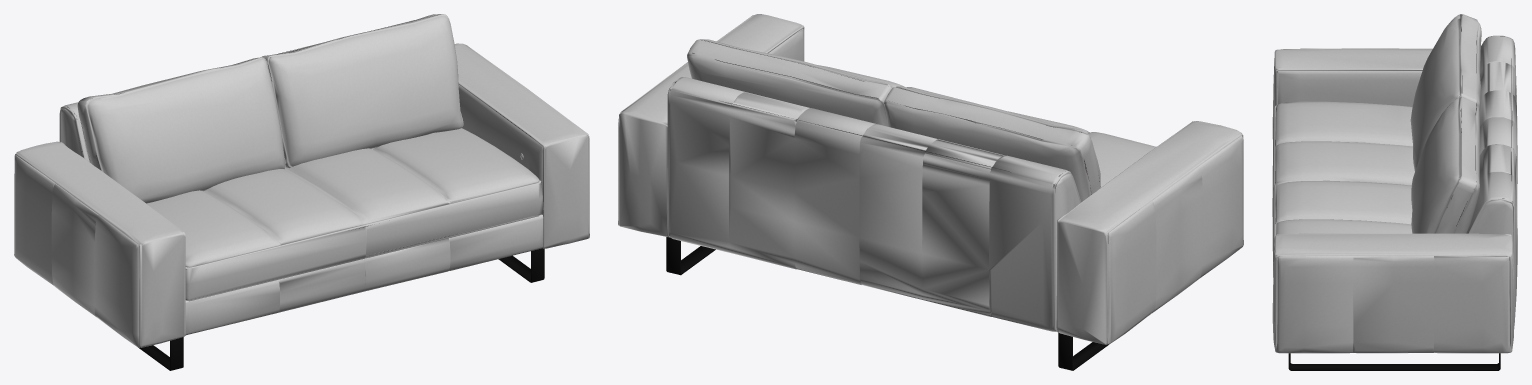
The model's file is sofa-modelo-duplo-estofado.glb.
3 views of the same model, side by side, from view 1: azimuth 30°, elevation 25°; view 2: azimuth 150°, elevation 25°; view 3: azimuth 270°, elevation 25° (orthographic). The views are drawn at different scales.
Parts seen in each view (by area): view 1: Modelo Duplo Estofado; view 2: Modelo Duplo Estofado; view 3: Modelo Duplo Estofado.
Boxes of the visible parts, x1=… form: Modelo Duplo Estofado: x1=14, y1=14, x2=589, y2=370; Modelo Duplo Estofado: x1=618, y1=14, x2=1243, y2=370; Modelo Duplo Estofado: x1=1272, y1=14, x2=1517, y2=370.
Size of the model in its own units: 1.85 by 0.7786 by 0.9094.
Materials: 4 (2 with a texture image).
